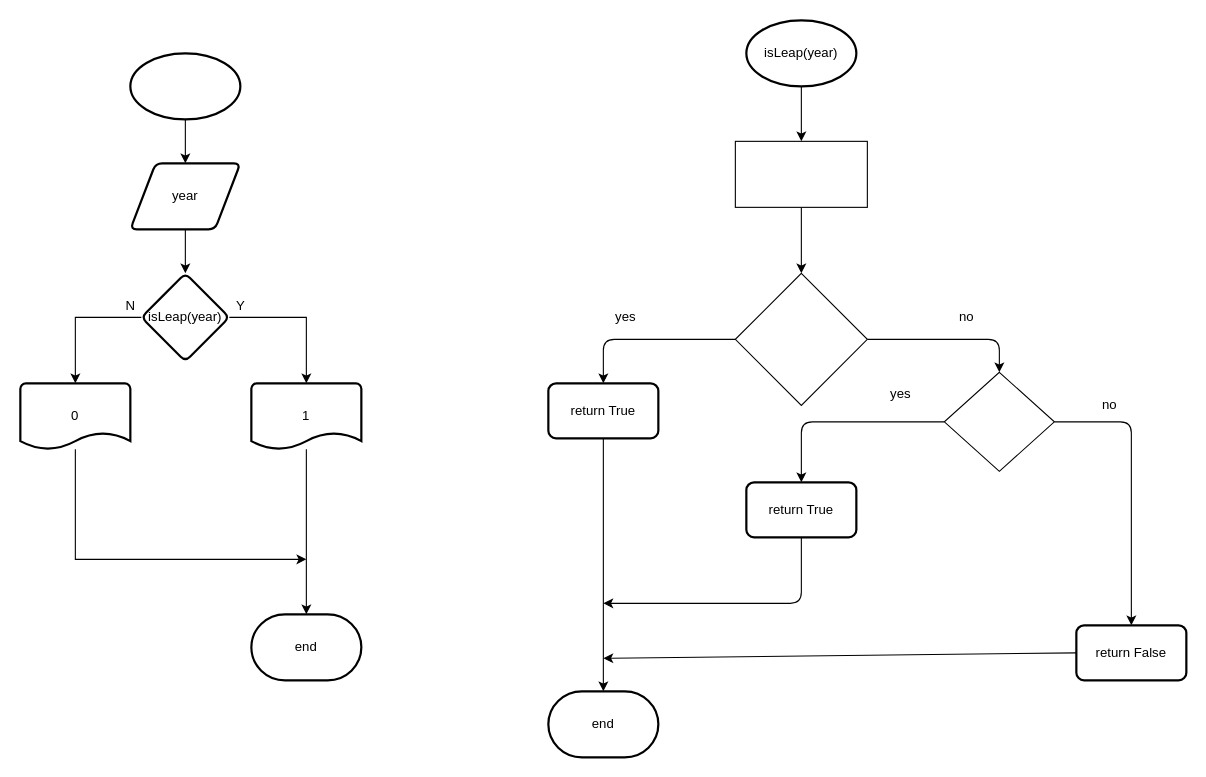
The diagram is 1206 pixels wide and 777 high, and some of its shapes have lost their labels. The centre of each missing label's shape, as x and y in pixels:
"a multiple of 4 and not a multiple of 100" goes at point 800,338.
"a mulyiple of 400" goes at point 998,421.
"start" goes at point 185,86.
"year input" goes at point 800,173.
